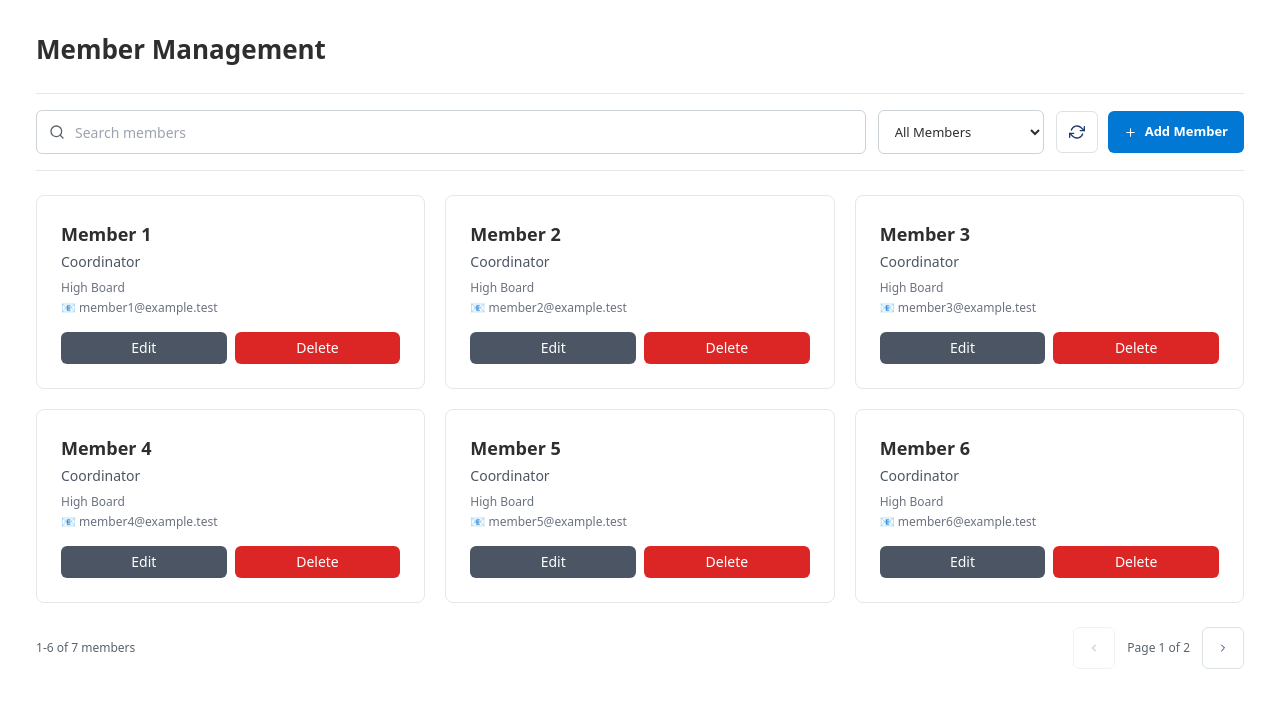
Scenario: paginates members and combines search with type filtering
This screenshot has width=1280, height=720.
Expected: the text "1-6 of 7 members" is shown, [36,639,135,657]
Expected: the text "Member 7" is not shown
Step 1. Click the button named "Next page" → (1223, 648), box [1202,627,1244,669]
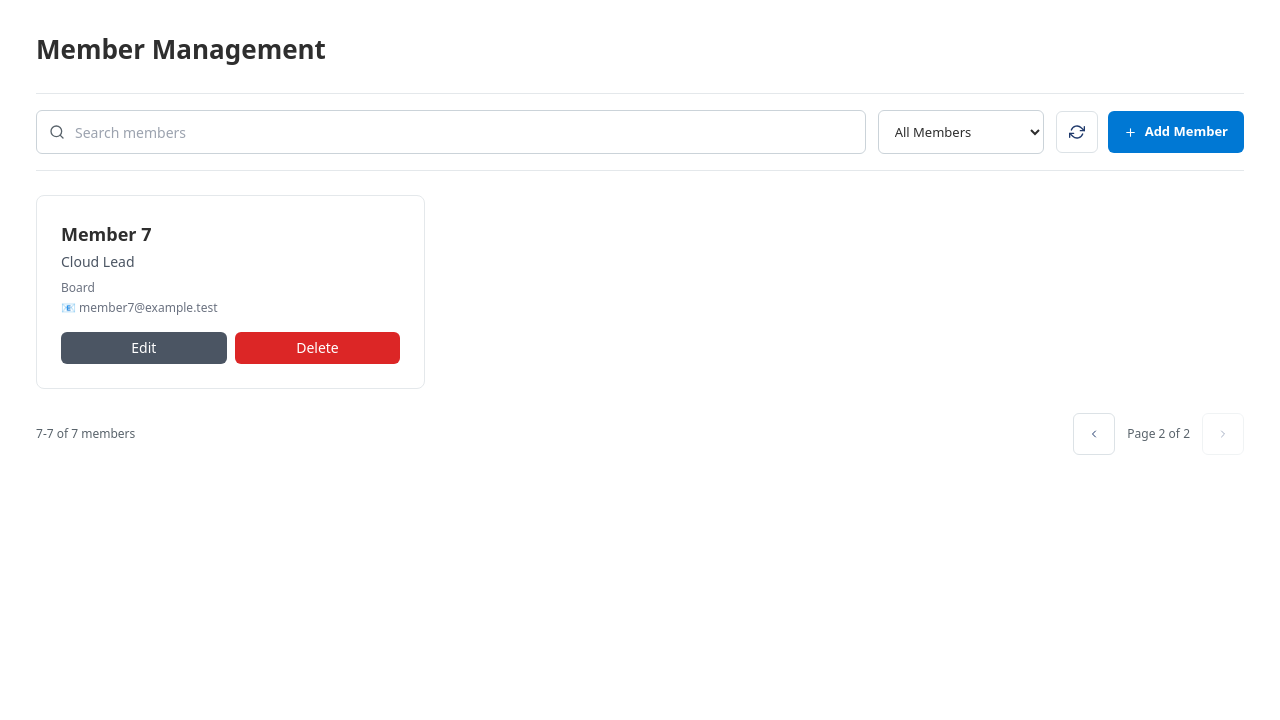
Expected: the button named "Next page" is disabled, [1202,413,1244,455]
Expected: the text "7-7 of 7 members" is shown, [36,425,135,443]
Step 2. Type " CLOUD " into the search field labelled "Search members" → (470, 132), box [75,111,865,153]
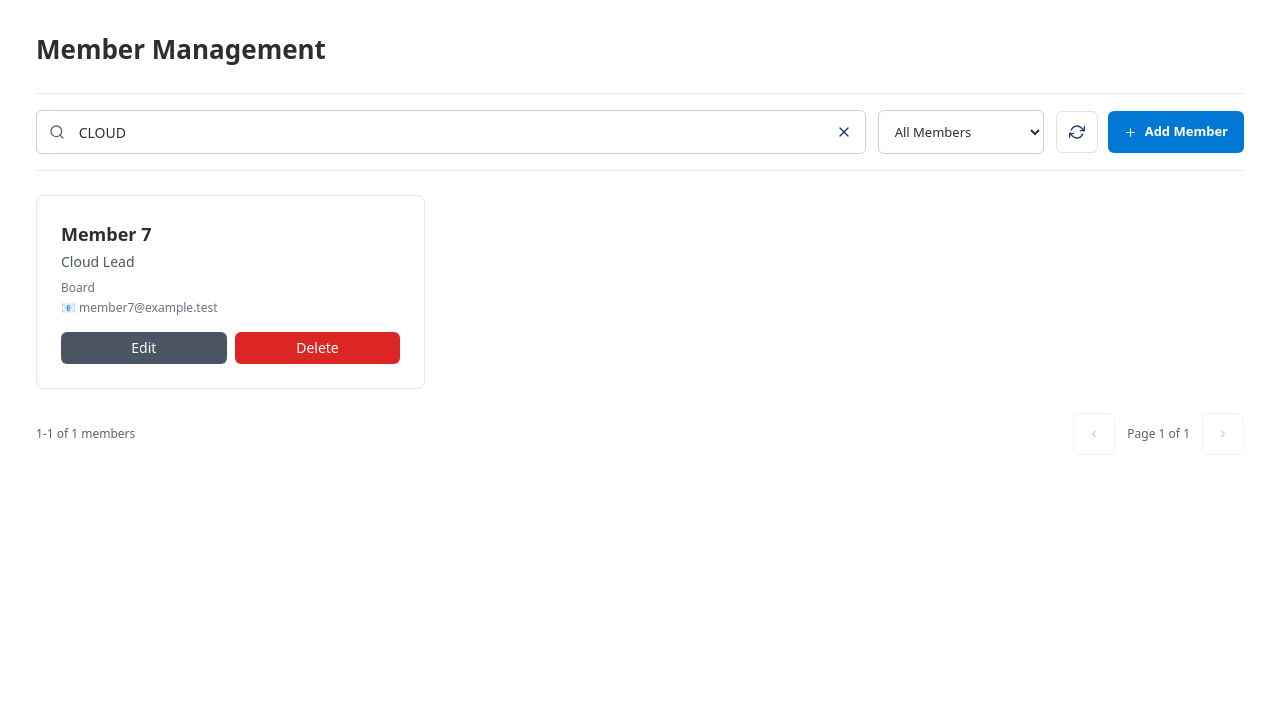
Expected: the text "1-1 of 1 members" is shown, [36,425,135,443]
Step 3. Select "High Board" in the dropdown named "Filter members" → (961, 132), box [878,110,1044,154]
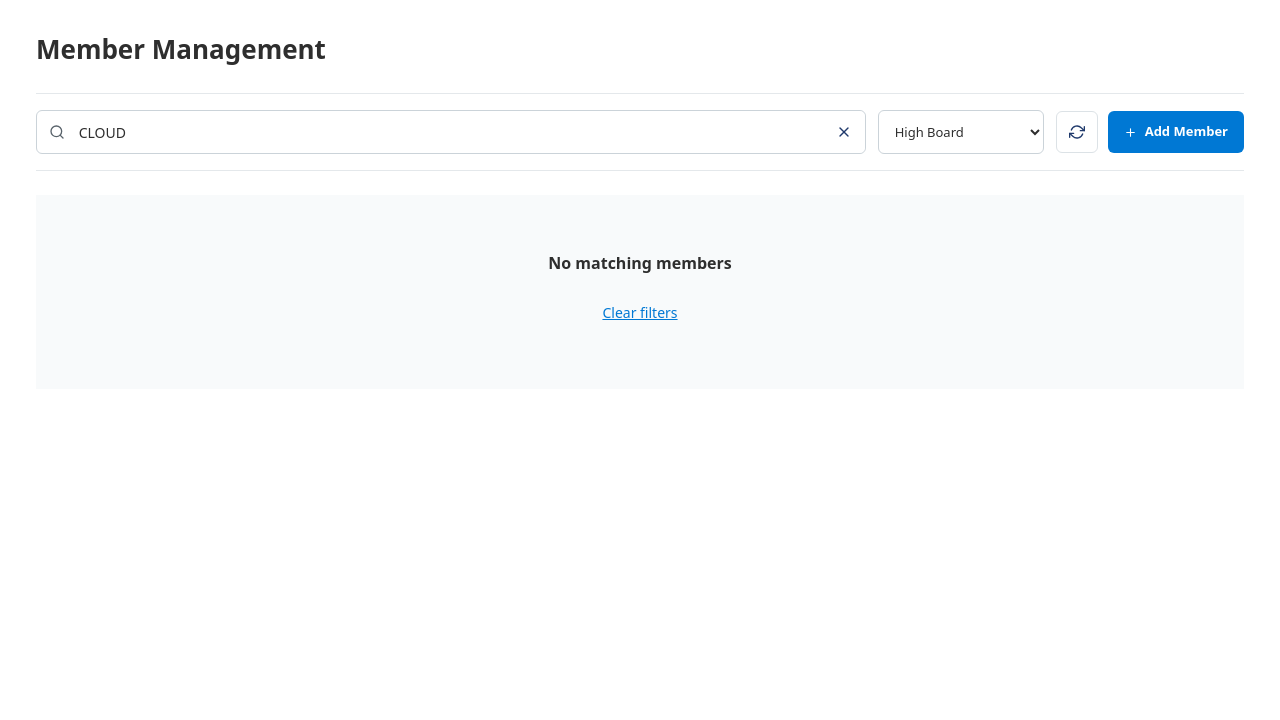
Expected: the heading "No matching members" is shown, [548,252,732,274]
Step 4. Click the button "Clear filters" → (640, 312), box [602,291,678,333]
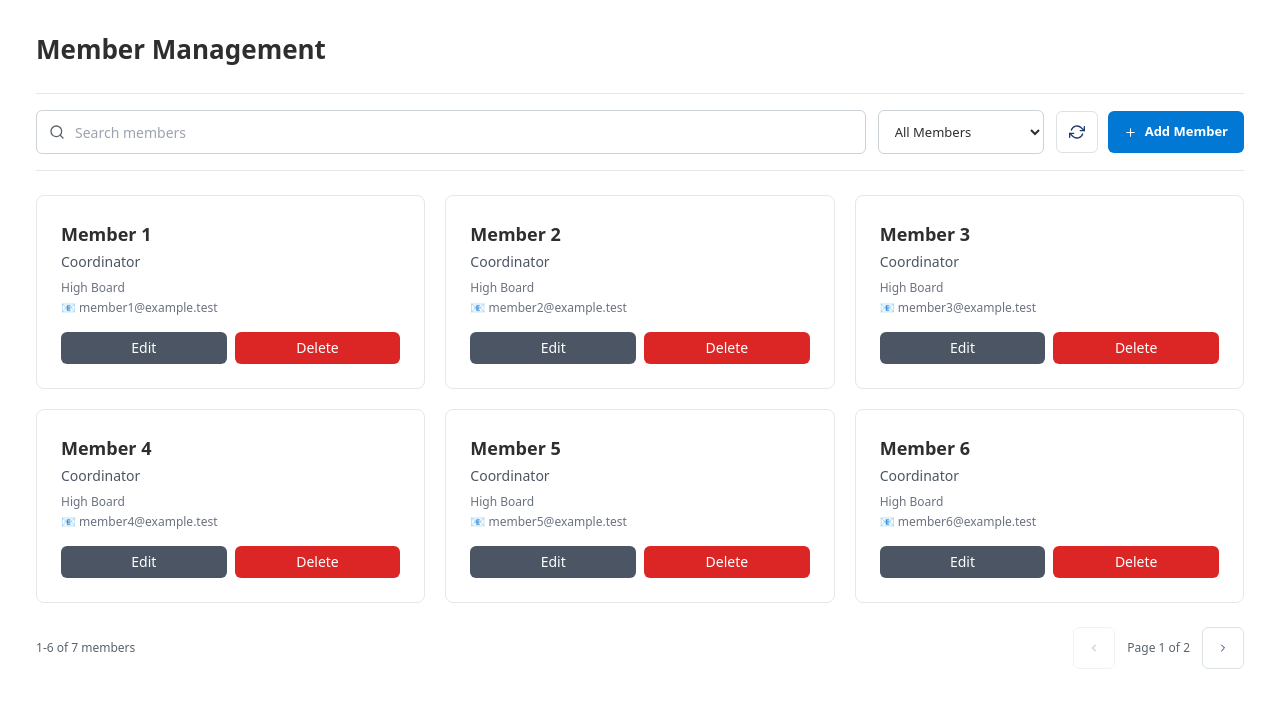
Expected: the text "1-6 of 7 members" is shown, [36,639,135,657]
Step 5. Type "MEMBER7@EXAMPLE.TEST" into the search field → (470, 132), box [75,111,865,153]
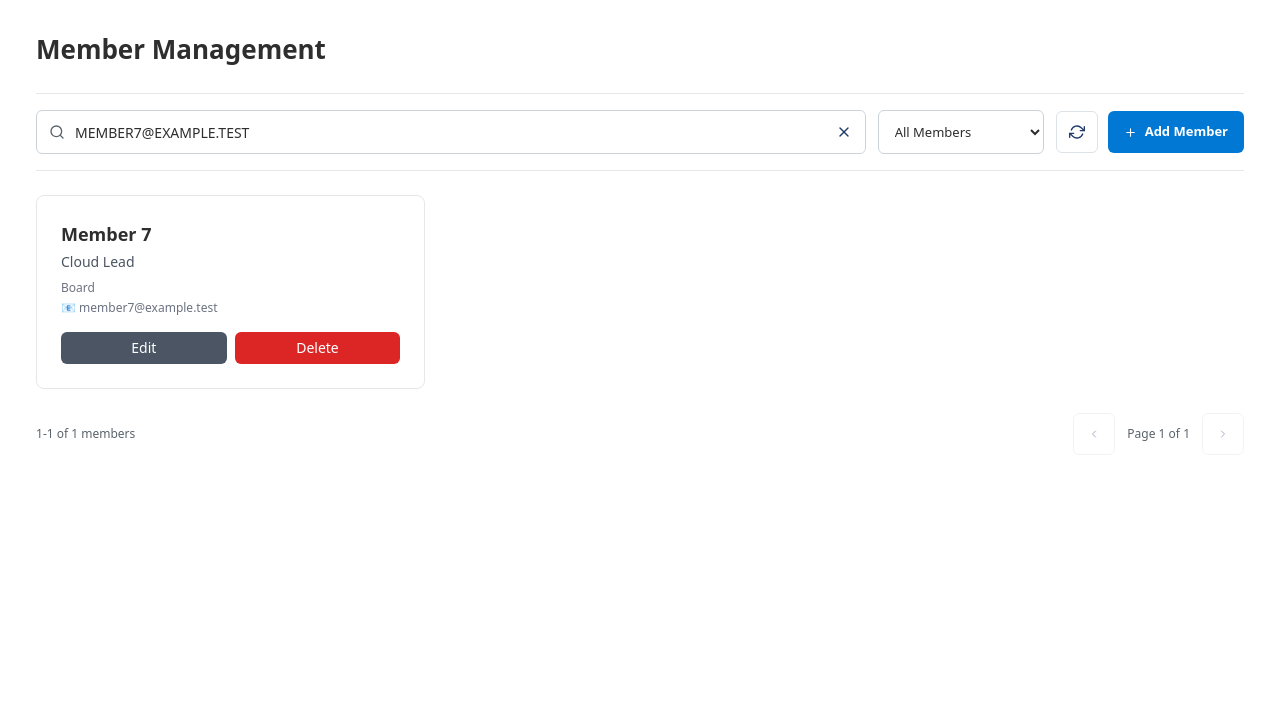
Expected: the heading "Member 7" is shown, [61,222,152,246]
